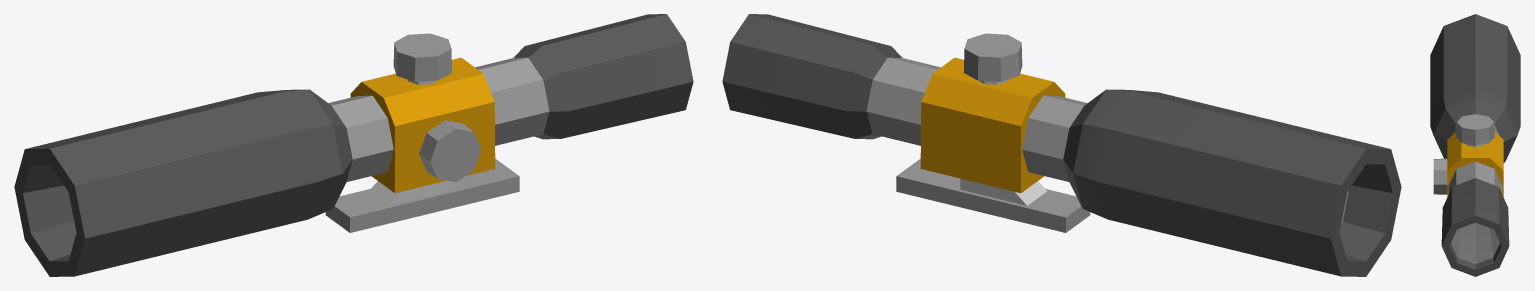
File: SM_Scope03.fbx
3 renders of one model, left to right at view 1: azimuth 30°, elevation 25°; view 2: azimuth 150°, elevation 25°; view 3: azimuth 270°, elevation 25°, orthographic. The views are drawn at different scales.
Parts seen in each view (by area): view 1: SM_Scope03; view 2: SM_Scope03; view 3: SM_Scope03.
Boxes of the visible parts, x1,y1,x2,y2 form: SM_Scope03: (14,14,693,276); SM_Scope03: (722,14,1401,276); SM_Scope03: (1430,14,1520,276).
Size of the model in its own units: 28.19 by 6.89 by 5.6.
